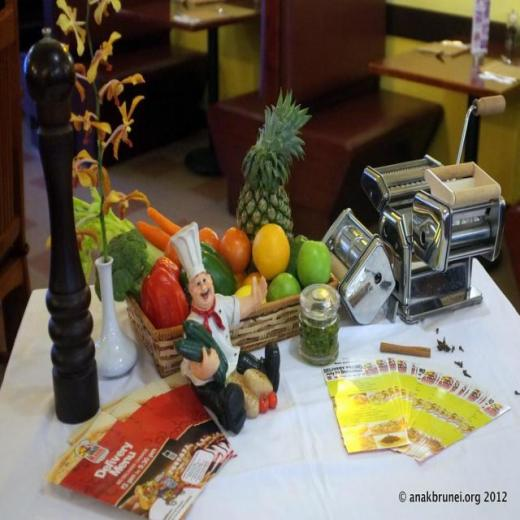Mango: (234, 82, 312, 249)
